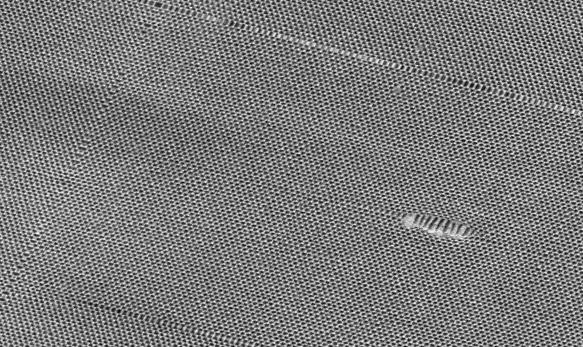slub: (400, 209, 479, 244)
